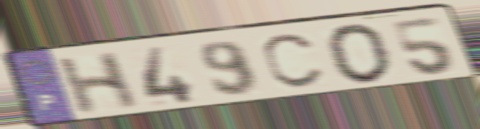4: (139, 44, 201, 107)
5: (388, 14, 457, 77)
9: (198, 39, 261, 99)
C: (259, 31, 328, 92)
H: (54, 49, 142, 117)
O: (325, 21, 395, 86)
